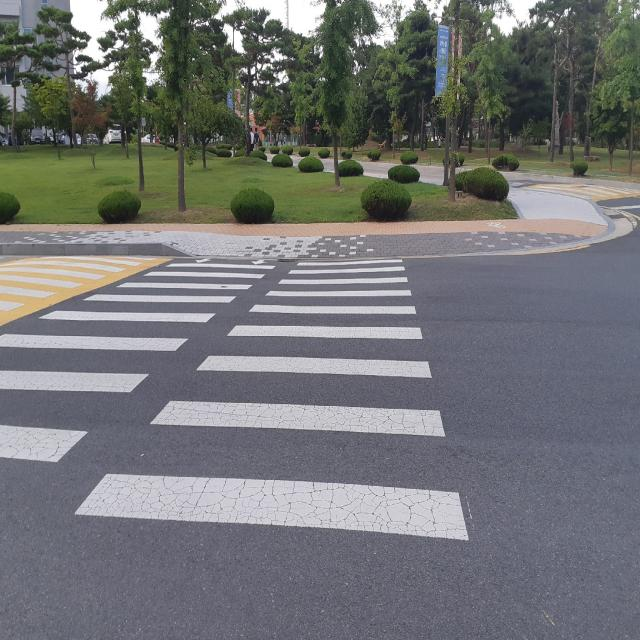횡단보도: (0, 257, 470, 542)
